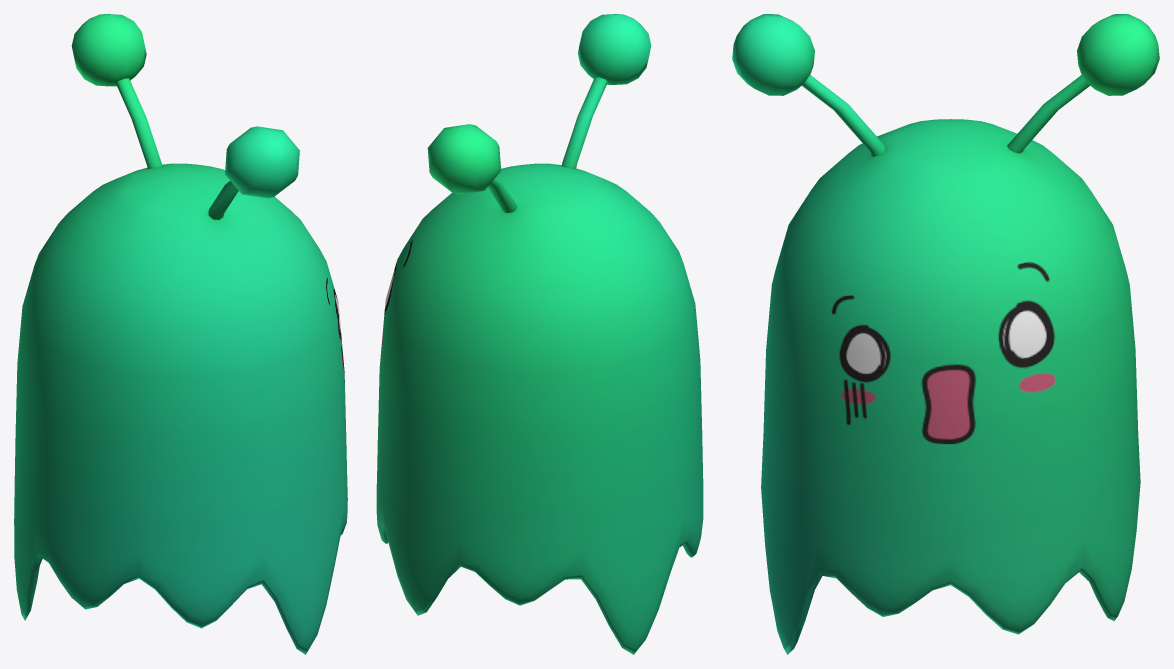
The model's file is pet03.fbx.
3 renders of one model, left to right at view 1: azimuth 30°, elevation 25°; view 2: azimuth 150°, elevation 25°; view 3: azimuth 270°, elevation 25°, orthographic. The views are drawn at different scales.
Parts seen in each view (by area): view 1: pet03_geo; view 2: pet03_geo; view 3: pet03_geo.
Boxes of the visible parts, <box> form: pet03_geo: <box>14,14,347,654</box>; pet03_geo: <box>376,14,703,654</box>; pet03_geo: <box>732,14,1159,654</box>.
Size of the model in its own units: 2.35 by 4.16 by 2.64.
1 material, 1 textured.
